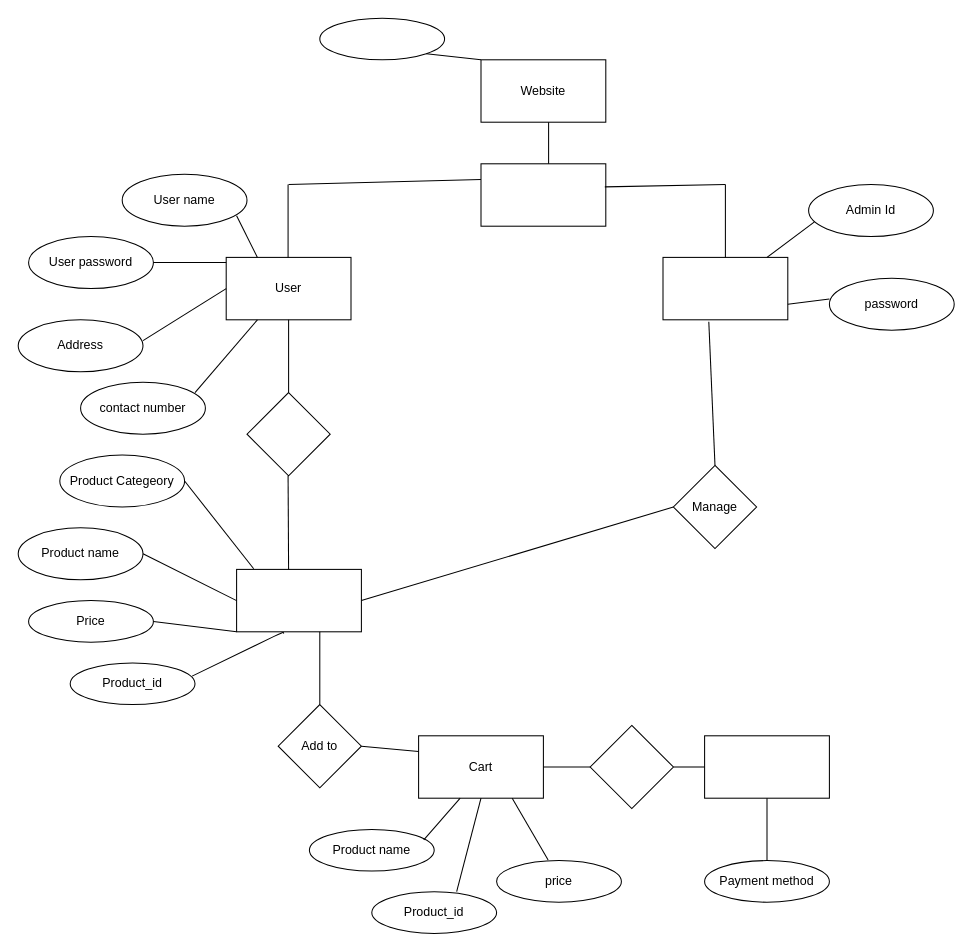
Image size: 972x952. Some labels were removed from this diagram. Here are the shapes that lost their labels. From the top down, the box of each, then its label:
(319, 17, 445, 60): Website name
(480, 163, 606, 226): Login
(662, 256, 788, 320): Admin
(246, 392, 330, 476): Views
(236, 568, 361, 632): Product
(589, 724, 673, 809): User Proceed
(704, 735, 829, 798): Buy
